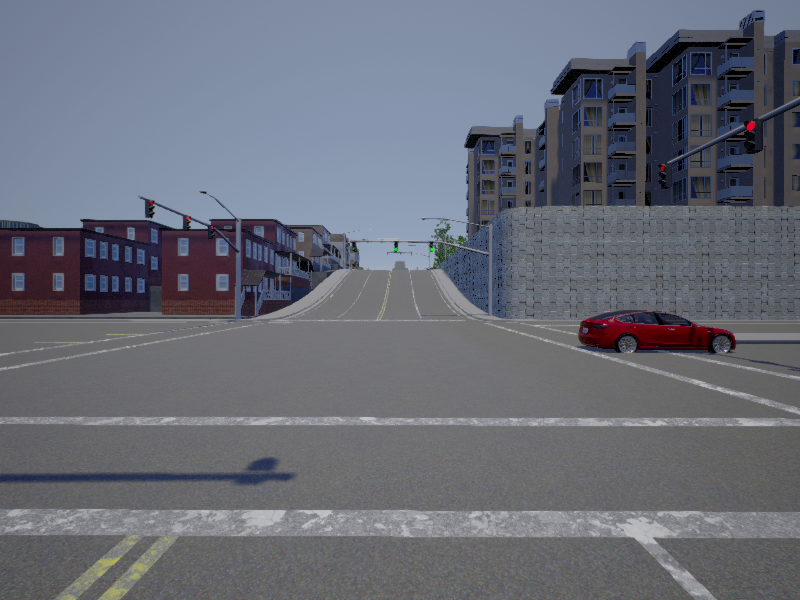Attacker: (580, 311, 737, 353)
